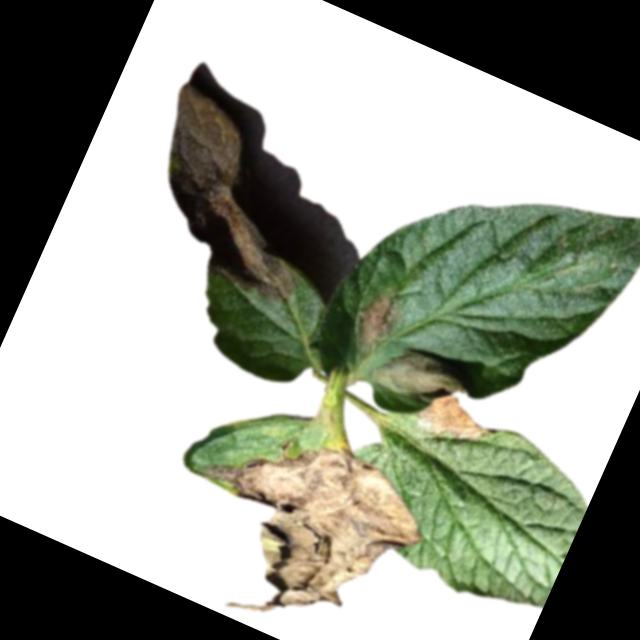Late_blight: (151, 398, 444, 640), (112, 80, 355, 312), (365, 335, 474, 419), (411, 383, 496, 453), (342, 283, 404, 356)
